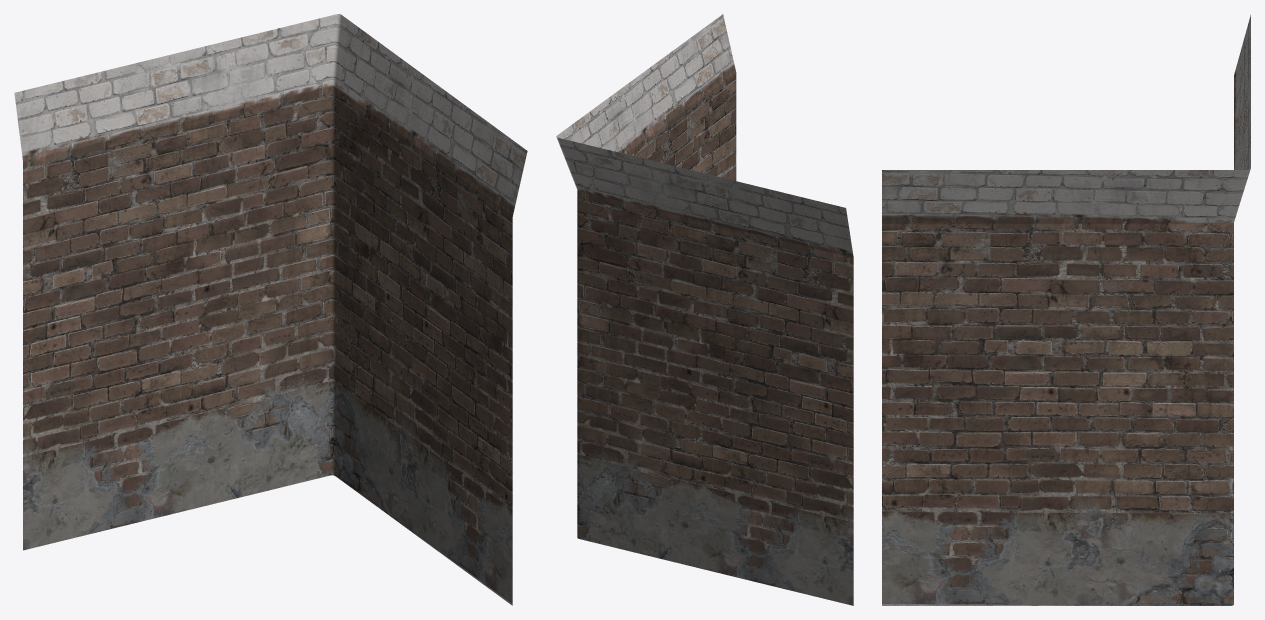
Rendered from wall_03.FBX.
3 views of the same model, side by side, from view 1: azimuth 30°, elevation 25°; view 2: azimuth 150°, elevation 25°; view 3: azimuth 270°, elevation 25° (orthographic). The views are drawn at different scales.
Parts seen in each view (by area): view 1: wall_03; view 2: wall_03; view 3: wall_03.
Part boxes in pixels (bbox=[...]): wall_03: bbox=[14, 14, 527, 605]; wall_03: bbox=[556, 14, 853, 605]; wall_03: bbox=[882, 14, 1250, 605].
Bounding box in the file's own units: 75.44 × 100 × 75.44.
